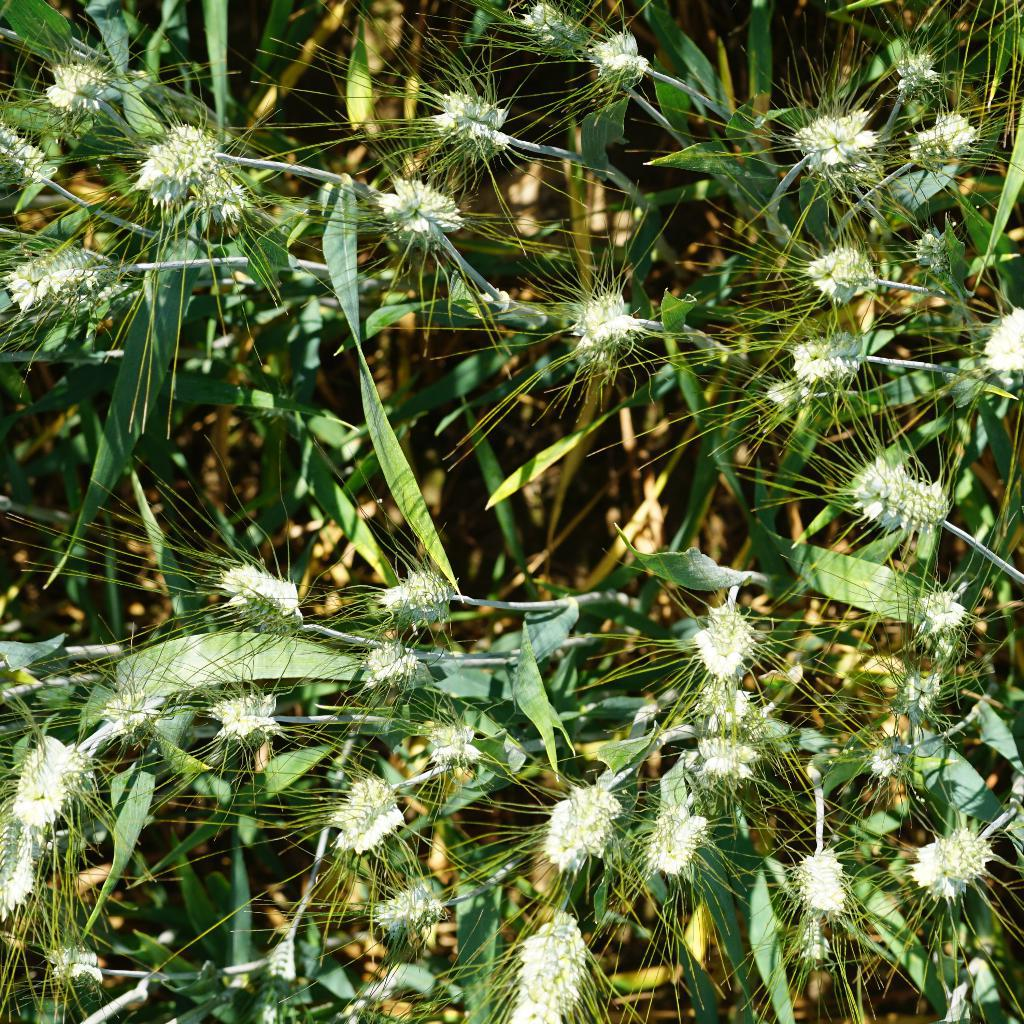0-0: (505, 900, 596, 1024), (855, 447, 965, 546), (193, 548, 310, 638), (302, 768, 414, 856), (0, 247, 142, 309), (785, 100, 888, 182), (634, 787, 714, 890), (563, 271, 654, 361), (539, 773, 621, 871), (11, 727, 88, 830), (129, 111, 228, 190), (911, 814, 1001, 900), (694, 593, 777, 680), (877, 101, 986, 167), (183, 684, 289, 747), (803, 225, 886, 305), (362, 874, 459, 940), (783, 851, 867, 926), (27, 51, 118, 120), (585, 22, 669, 96), (425, 85, 515, 152), (776, 318, 870, 378), (503, 0, 598, 59), (350, 623, 432, 689), (378, 176, 459, 240), (0, 818, 48, 926), (174, 165, 260, 224), (694, 722, 757, 802), (904, 580, 978, 646), (247, 935, 299, 1024), (90, 686, 174, 740), (378, 564, 455, 621), (0, 130, 66, 195), (410, 721, 492, 773), (890, 650, 952, 718), (687, 683, 768, 733), (980, 290, 1024, 382), (914, 217, 975, 283), (37, 934, 107, 989), (784, 915, 855, 968), (890, 37, 944, 105), (763, 370, 829, 421), (864, 729, 918, 781)
